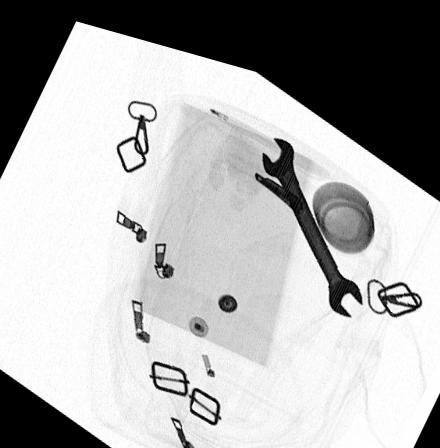Wrench: (260, 121, 363, 300)
